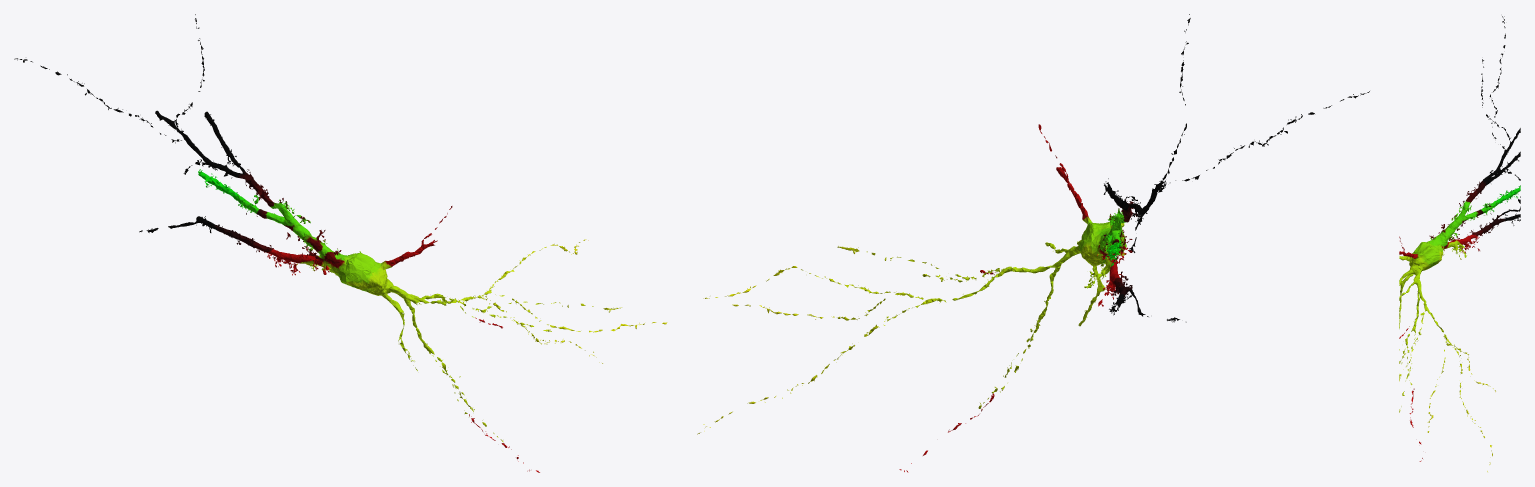
Rendered from cell.glb.
3 renders of one model, left to right at view 1: azimuth 30°, elevation 25°; view 2: azimuth 150°, elevation 25°; view 3: azimuth 270°, elevation 25°, orthographic. The views are drawn at different scales.
Visible parts, largest first — view 1: world; view 2: world; view 3: world.
Boxes of the visible parts, <box> form: world: <box>14,14,667,472</box>; world: <box>697,14,1369,472</box>; world: <box>1399,16,1520,471</box>.
Size of the model in its own units: 333 by 264 by 92.11.
